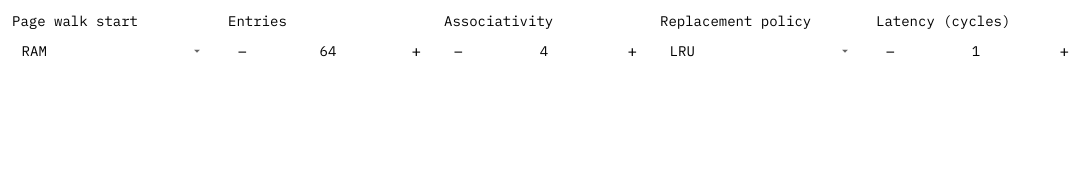
Scenario: TlbConfigForm › offers every non-L1 level plus RAM as page-walk-start options, defaulting to RAM
Step 1. Click the button with aria-label "Page walk start" → (112, 51), box x1=12 y1=36 x2=212 y2=67
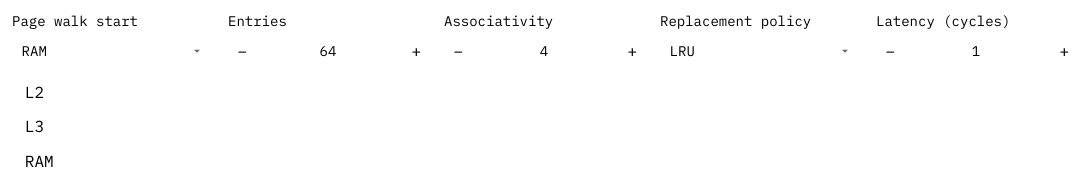
Check: the options read "L2", "L3", "RAM", in this order, box x1=17 y1=76 x2=207 y2=108; x1=17 y1=111 x2=207 y2=142; x1=17 y1=145 x2=207 y2=176
Check: the option "RAM" is shown, box x1=17 y1=145 x2=207 y2=176
